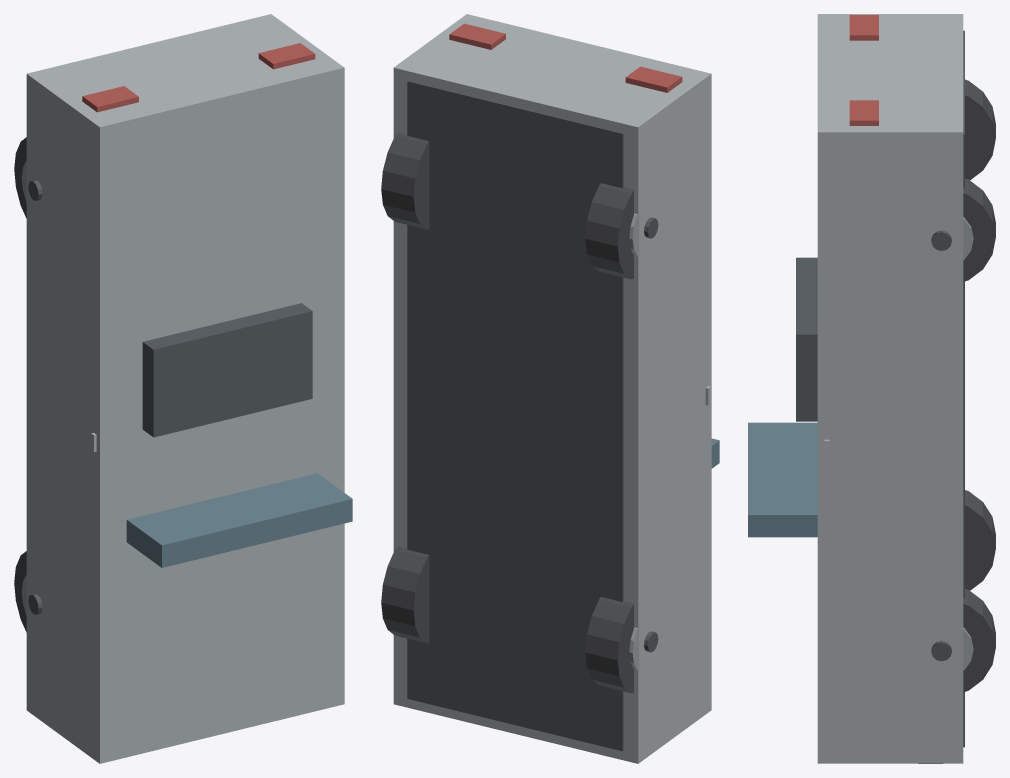
The model's file is convertible.glb.
The picture shows the model from 3 angles, left to right: view 1: azimuth 30°, elevation 25°; view 2: azimuth 150°, elevation 25°; view 3: azimuth 270°, elevation 25°; orthographic projection.
Visible parts, largest first — view 1: 0000_Car_body, 0003_Convertible_seatbacks, 0002_Front_windshield, 0009_Tail_lamp, 0007_Tail_lamp, 0012_Wheel_tire, 0018_Wheel_tire; view 2: 0001_Chassis_black, 0000_Car_body, 0015_Wheel_tire, 0021_Wheel_tire, 0012_Wheel_tire, 0018_Wheel_tire, 0007_Tail_lamp, 0009_Tail_lamp; view 3: 0000_Car_body, 0002_Front_windshield, 0003_Convertible_seatbacks, 0012_Wheel_tire, 0018_Wheel_tire, 0015_Wheel_tire, 0021_Wheel_tire, 0001_Chassis_black, 0007_Tail_lamp, 0009_Tail_lamp.
Boxes of the visible parts, bbox=[...] form: 0000_Car_body: bbox=[26, 14, 344, 763]; 0003_Convertible_seatbacks: bbox=[142, 303, 312, 437]; 0002_Front_windshield: bbox=[126, 473, 352, 567]; 0009_Tail_lamp: bbox=[258, 43, 315, 69]; 0007_Tail_lamp: bbox=[82, 86, 138, 112]; 0012_Wheel_tire: bbox=[14, 551, 26, 632]; 0018_Wheel_tire: bbox=[14, 137, 26, 218]; 0001_Chassis_black: bbox=[407, 81, 623, 751]; 0000_Car_body: bbox=[393, 14, 711, 763]; 0015_Wheel_tire: bbox=[381, 546, 429, 643]; 0021_Wheel_tire: bbox=[381, 132, 429, 229]; 0012_Wheel_tire: bbox=[585, 597, 633, 693]; 0018_Wheel_tire: bbox=[585, 183, 633, 279]; 0007_Tail_lamp: bbox=[625, 66, 682, 92]; 0009_Tail_lamp: bbox=[449, 23, 505, 49]; 0000_Car_body: bbox=[817, 14, 963, 763]; 0002_Front_windshield: bbox=[748, 422, 817, 537]; 0003_Convertible_seatbacks: bbox=[796, 257, 817, 421]; 0012_Wheel_tire: bbox=[965, 490, 995, 590]; 0018_Wheel_tire: bbox=[965, 79, 995, 180]; 0015_Wheel_tire: bbox=[963, 589, 995, 692]; 0021_Wheel_tire: bbox=[963, 178, 995, 281]; 0001_Chassis_black: bbox=[963, 30, 964, 747]; 0007_Tail_lamp: bbox=[849, 15, 878, 40]; 0009_Tail_lamp: bbox=[849, 100, 878, 125].
Bounding box in the file's own units: 1.87 × 4.6 × 1.6.
